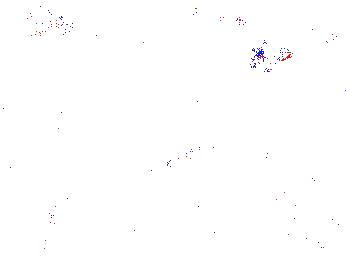X-ray fish: (2, 1, 73, 52)
glassfish: (117, 131, 235, 207)
redtail glassfish: (183, 1, 249, 27), (261, 42, 297, 70), (301, 16, 346, 37)
